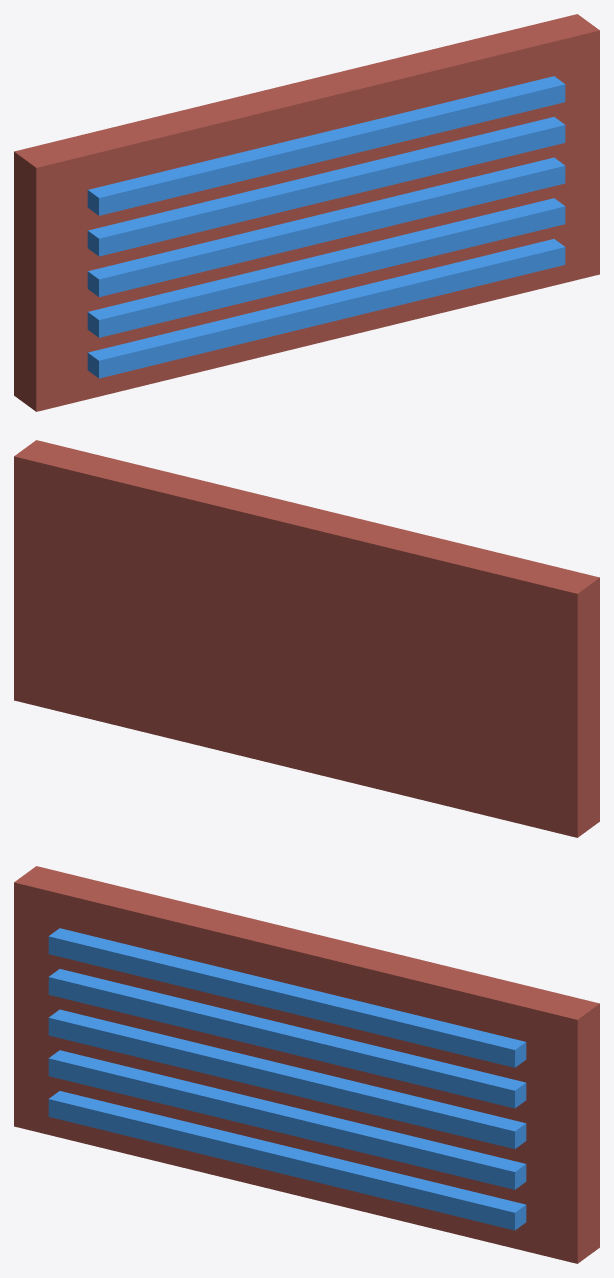
The model's file is air-vent.obj.
The picture shows the model from 3 angles, top to bottom: view 1: azimuth 30°, elevation 25°; view 2: azimuth 150°, elevation 25°; view 3: azimuth 330°, elevation 25°; orthographic projection.
Visible parts, largest first — view 1: vent-frame, vent-slat-2, vent-slat-3, vent-slat-5, vent-slat-1, vent-slat-4; view 2: vent-frame; view 3: vent-frame, vent-slat-2, vent-slat-3, vent-slat-5, vent-slat-1, vent-slat-4.
Boxes of the visible parts, x1,y1,x2,y2 form: vent-frame: (14,14,599,411); vent-slat-2: (87,198,565,337); vent-slat-3: (87,157,565,296); vent-slat-5: (87,76,565,215); vent-slat-1: (87,239,565,378); vent-slat-4: (87,117,565,256); vent-frame: (14,440,599,837); vent-frame: (14,866,599,1263); vent-slat-2: (48,1050,526,1189); vent-slat-3: (48,1009,526,1148); vent-slat-5: (48,928,526,1067); vent-slat-1: (48,1091,526,1230); vent-slat-4: (48,969,526,1108).
Size of the model in its own units: 1.16 by 0.48 by 0.13.
